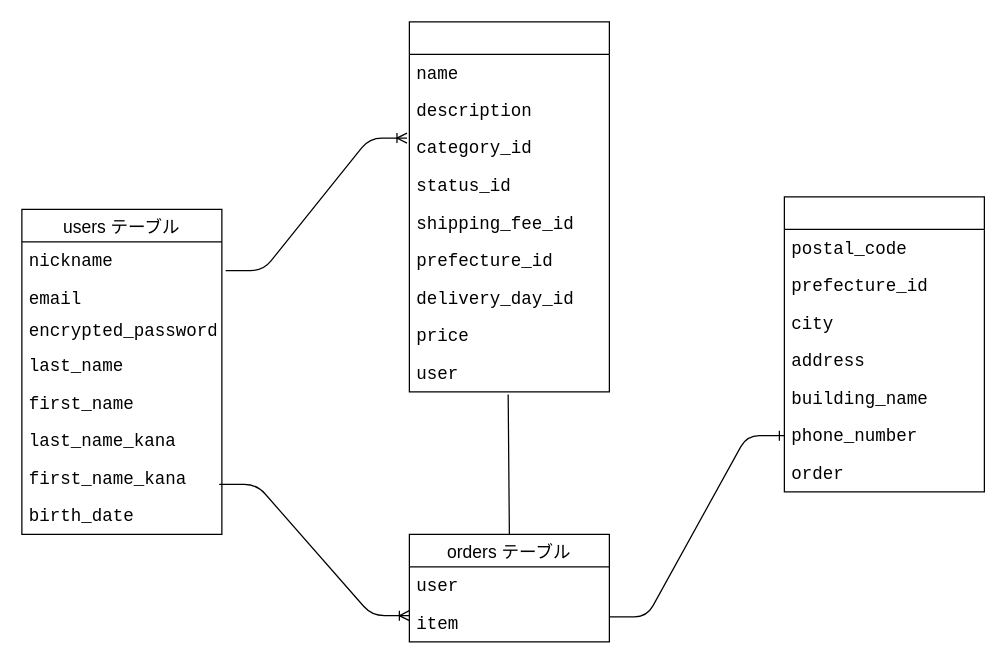
This 1006x668 diagram has some shape labels left out. The box of each missing label's shape, as (x1, y1, x2, y2) in pixels:
addresses テーブル: (783, 196, 984, 492)
items テーブル: (408, 21, 609, 392)
